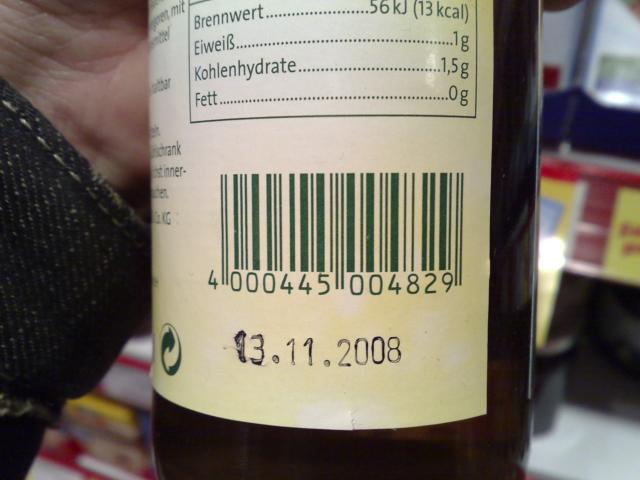Barkod: (218, 172, 464, 270)
